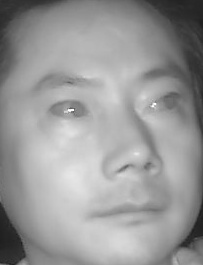eye: (45, 97, 89, 125), (146, 89, 181, 115)
mouth: (90, 192, 167, 234)
